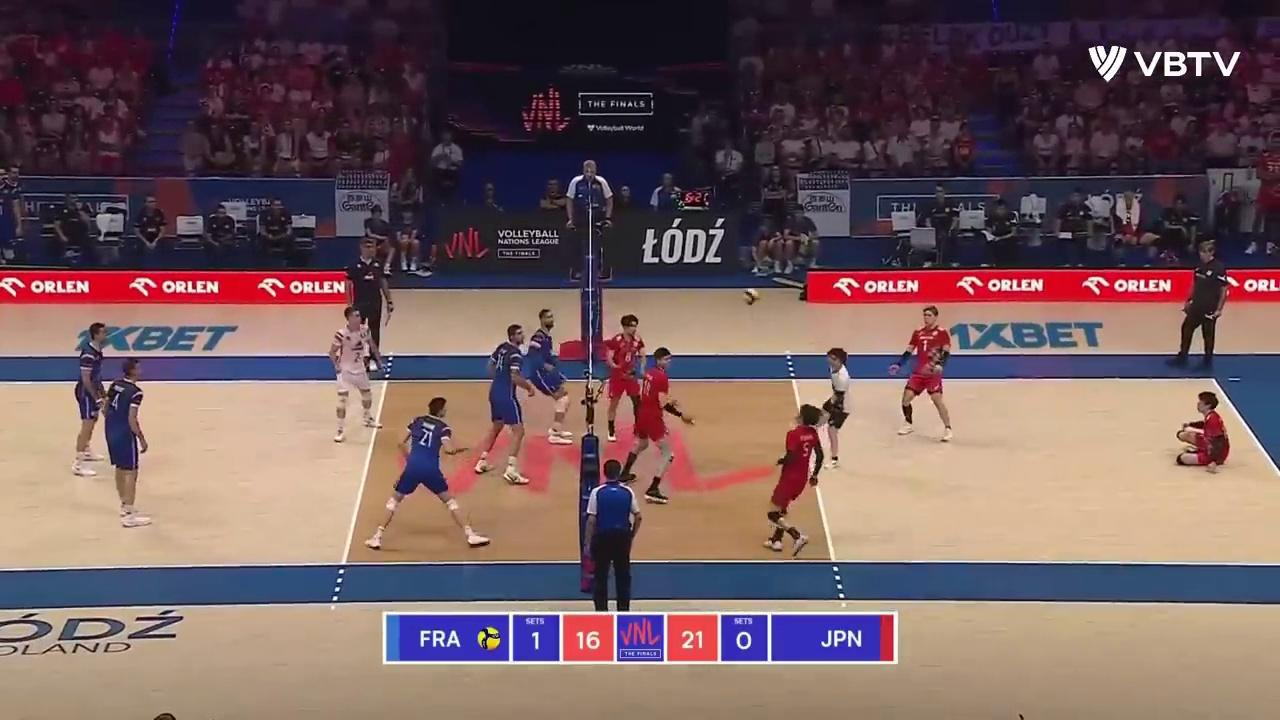ball: (742, 287, 758, 304)
